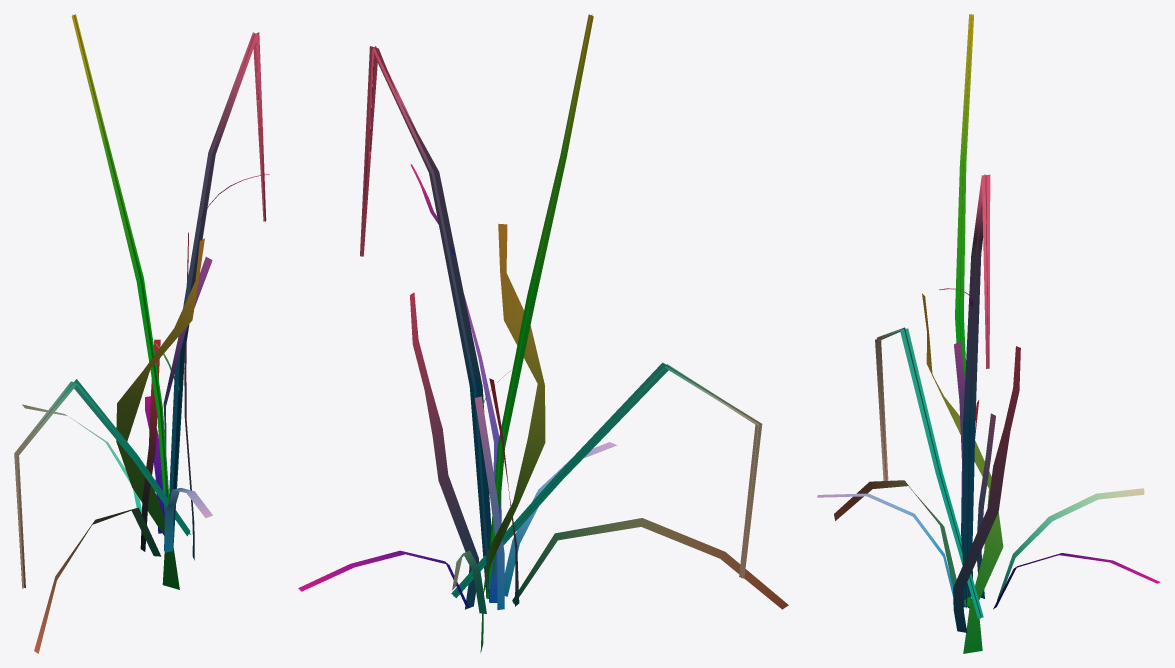
File: Wheat_Grass_tdcrdbur_Low_tdcrdbur_VarE_LOD0.fbx
The picture shows the model from 3 angles, left to right: view 1: azimuth 30°, elevation 25°; view 2: azimuth 150°, elevation 25°; view 3: azimuth 270°, elevation 25°; orthographic projection. The views are drawn at different scales.
Parts seen in each view (by area): view 1: _a20d_VarE_LOD1; view 2: _a20d_VarE_LOD1; view 3: _a20d_VarE_LOD1.
Boxes of the visible parts, box(x1,y1,x2,y2) form: _a20d_VarE_LOD1: box(14, 14, 269, 653); _a20d_VarE_LOD1: box(298, 14, 788, 652); _a20d_VarE_LOD1: box(817, 14, 1160, 653).
Bounding box in the file's own units: 36.2 × 66.62 × 35.08.
